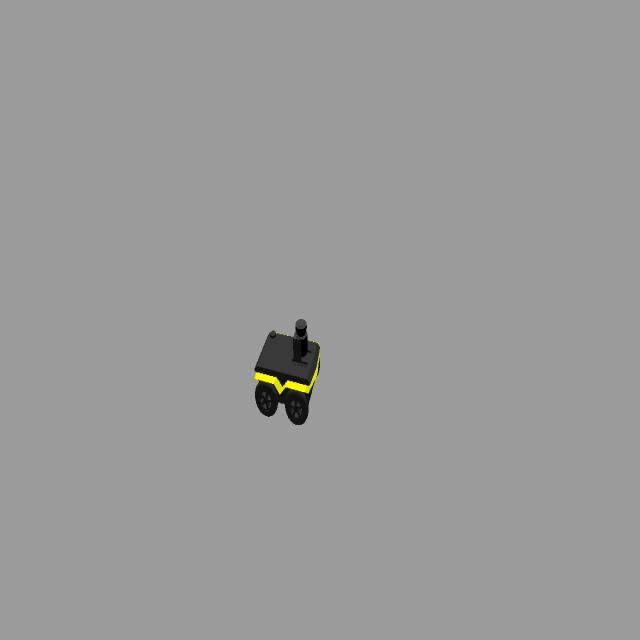jackal: (252, 314, 322, 430)
